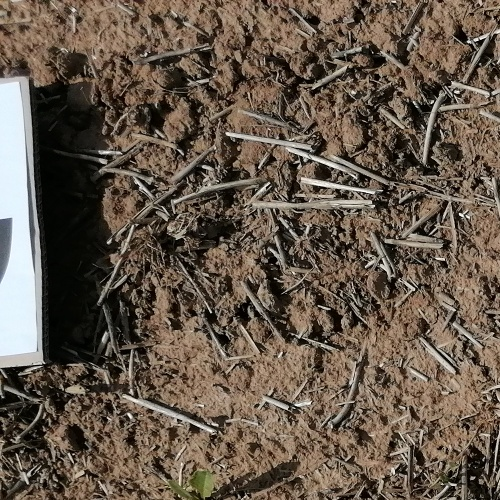beet: (166, 470, 212, 500)
